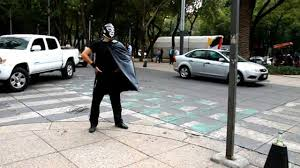mask: (103, 21, 115, 41), (125, 41, 131, 48)
